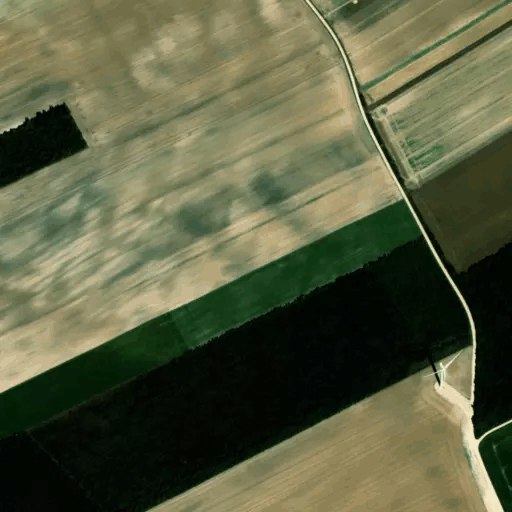wt: (418, 333, 465, 404)
